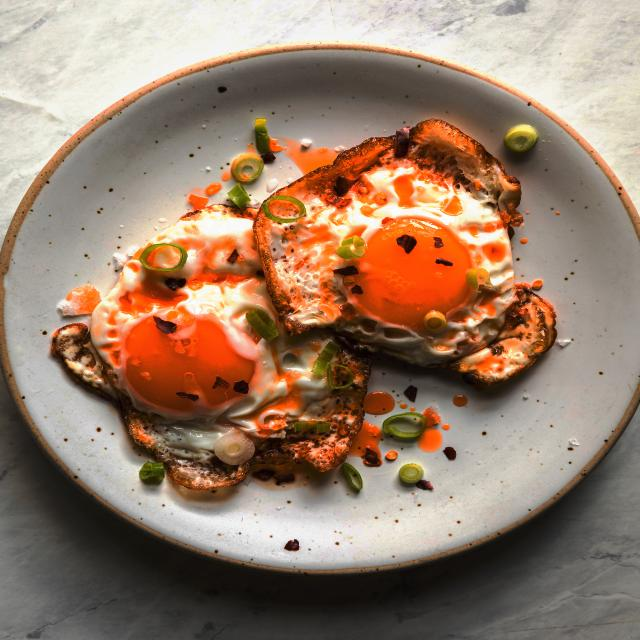fried_eggs: (61, 119, 557, 497)
